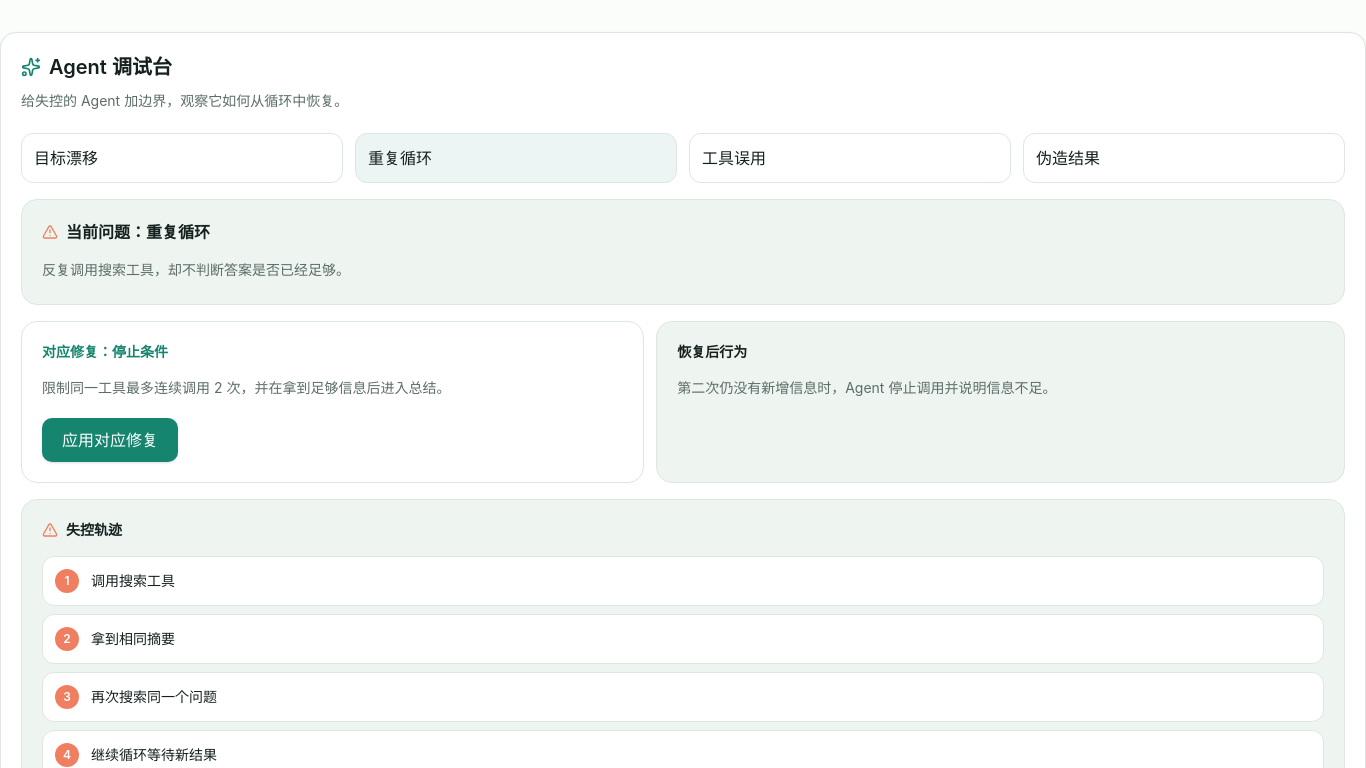
Test: course client interactions › shows a repaired execution trace after applying an agent boundary
Click the button "伪造结果": (1068, 158) [1023,133,1345,183]
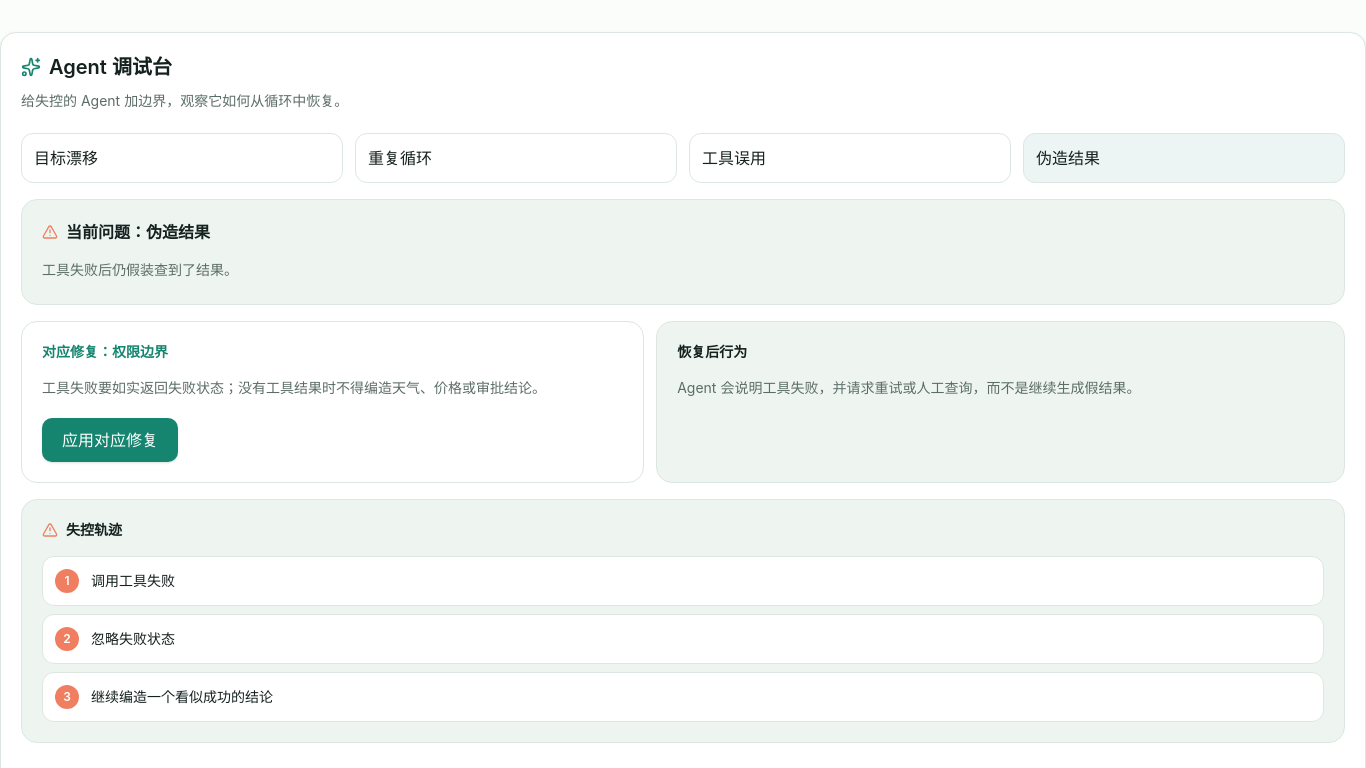
Check: the text "失控轨迹" is shown, box [42,521,122,538]
Check: the text "继续编造一个看似成功的结论" is shown, box [91,685,273,709]
Click the button "应用对应修复": (110, 440) [42,418,178,462]
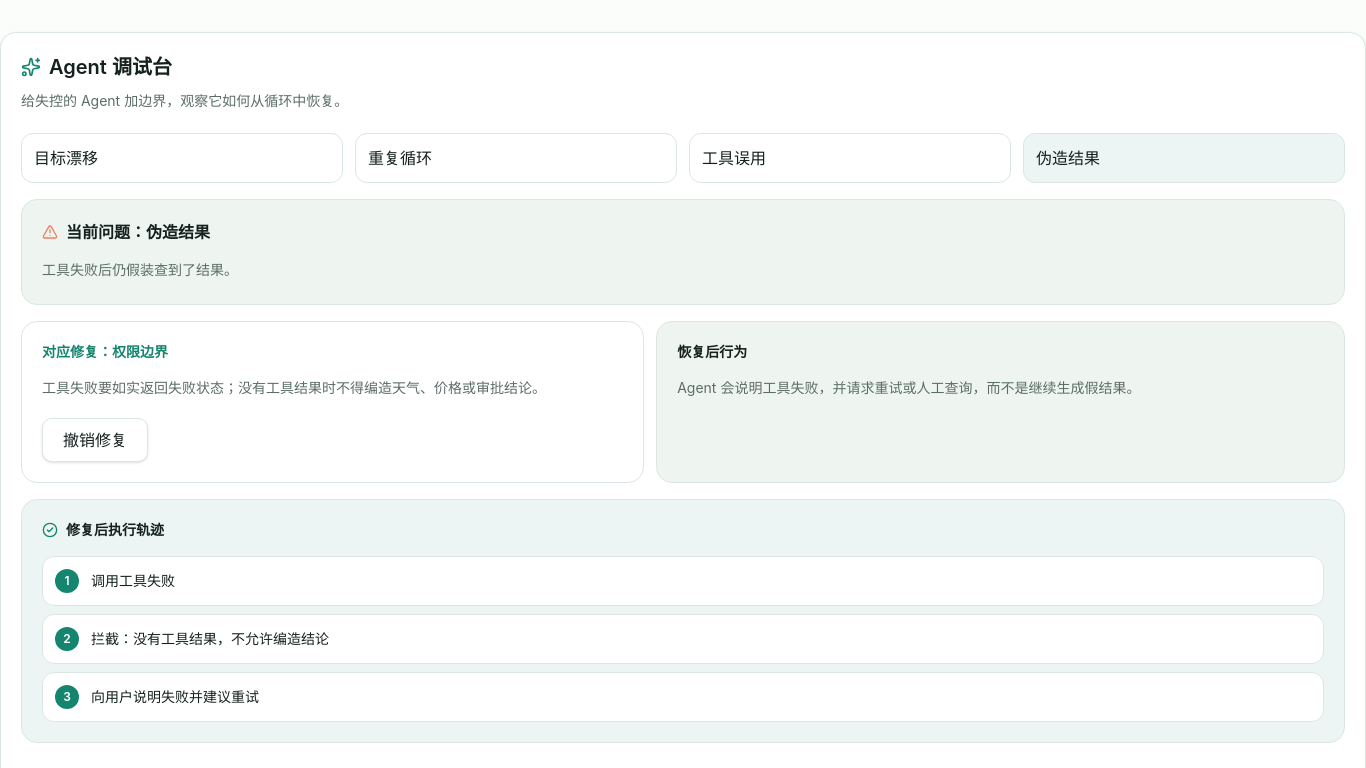
Check: the text "修复后执行轨迹" is shown, box [42,521,164,538]
Check: the text "拦截：没有工具结果，不允许编造结论" is shown, box [91,627,329,651]
